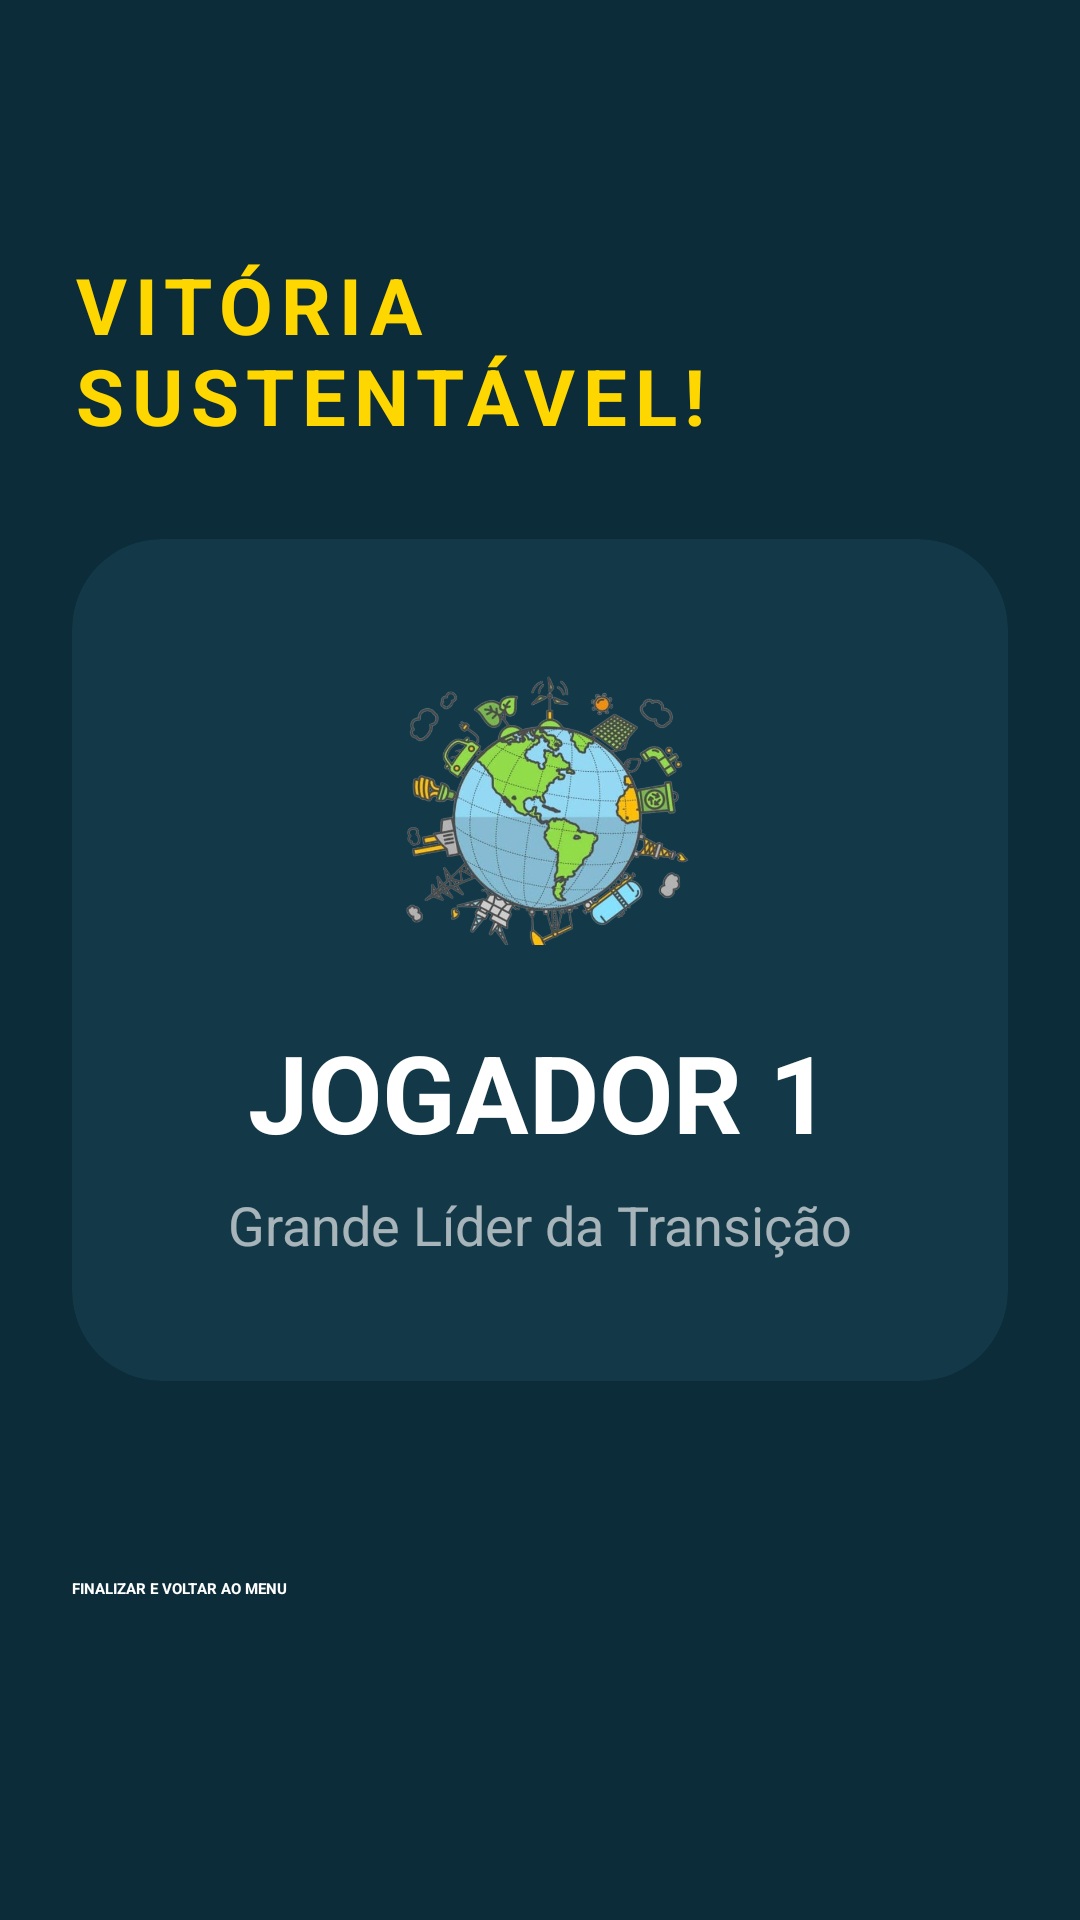

Named icons in this screenshot (1080x1920) and their bounding boxes, [x1=x1, y1=y1, x2=x2, y2=y2]:
mundo: [x1=406, y1=677, x2=688, y2=945]
